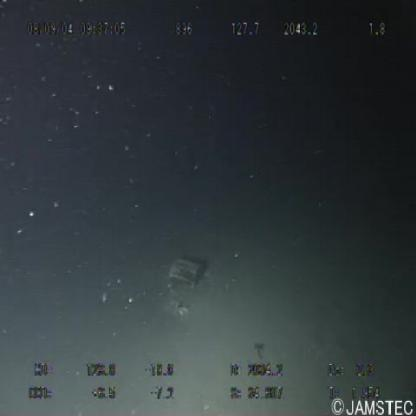Rác: (171, 258, 199, 284)
